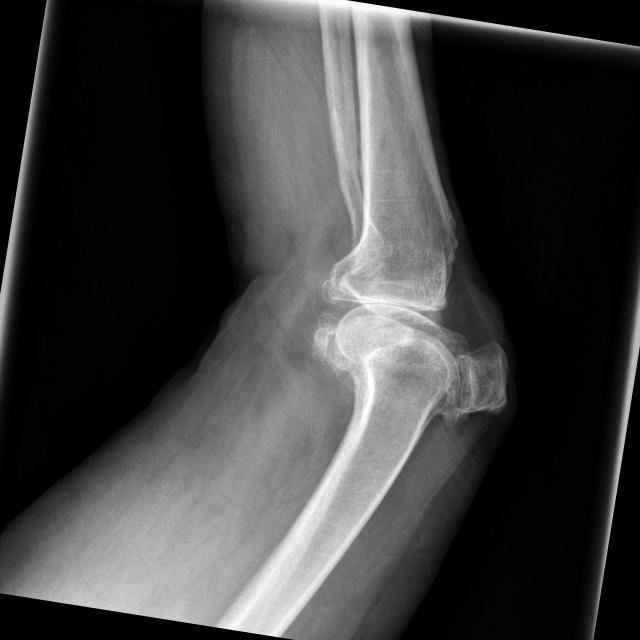Knee: (306, 252, 524, 423)
